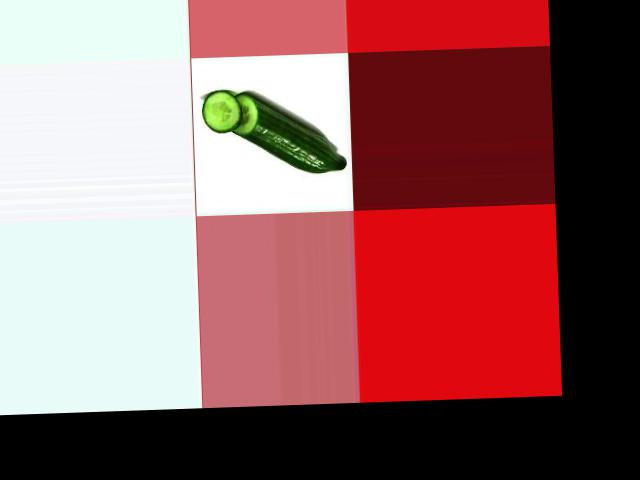cucumber: (228, 88, 346, 175)
